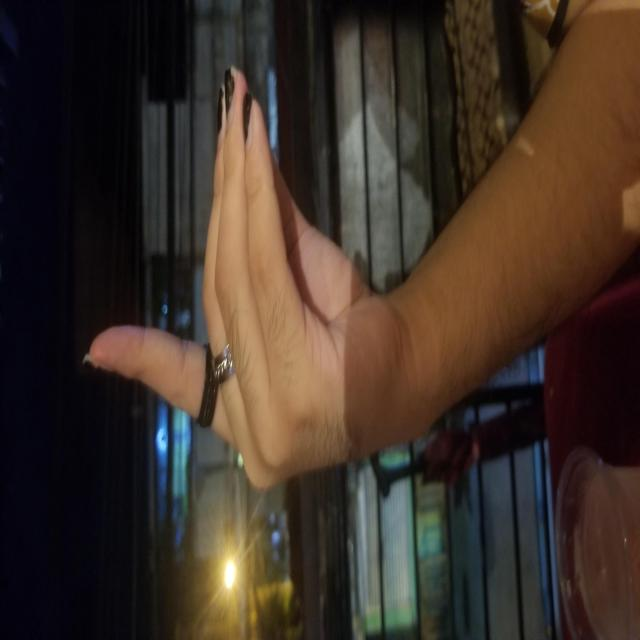D: (144, 84, 570, 414)
